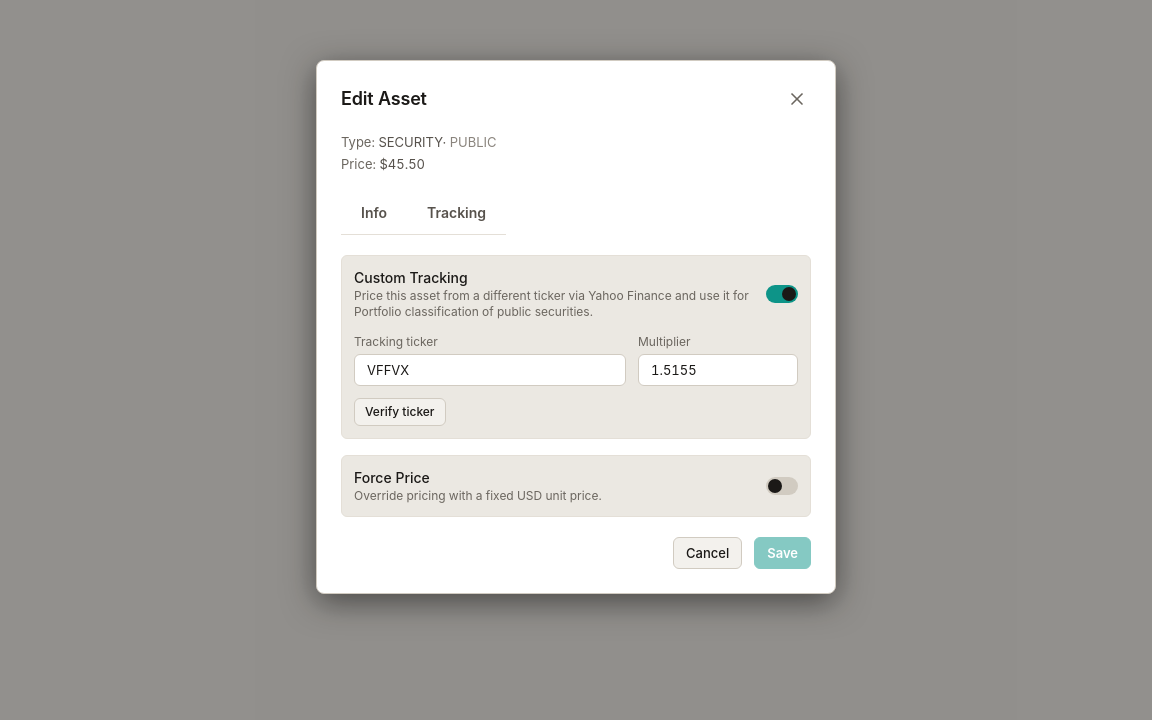
AssetEditModal › shows security-only pricing controls for security assets
Check: the switch named "override pricing" is shown, box 766,477 -> 798,495
Replace the text in the number field named "Tracking multiplier" with "2" at (718, 370), box 638,354 -> 798,386
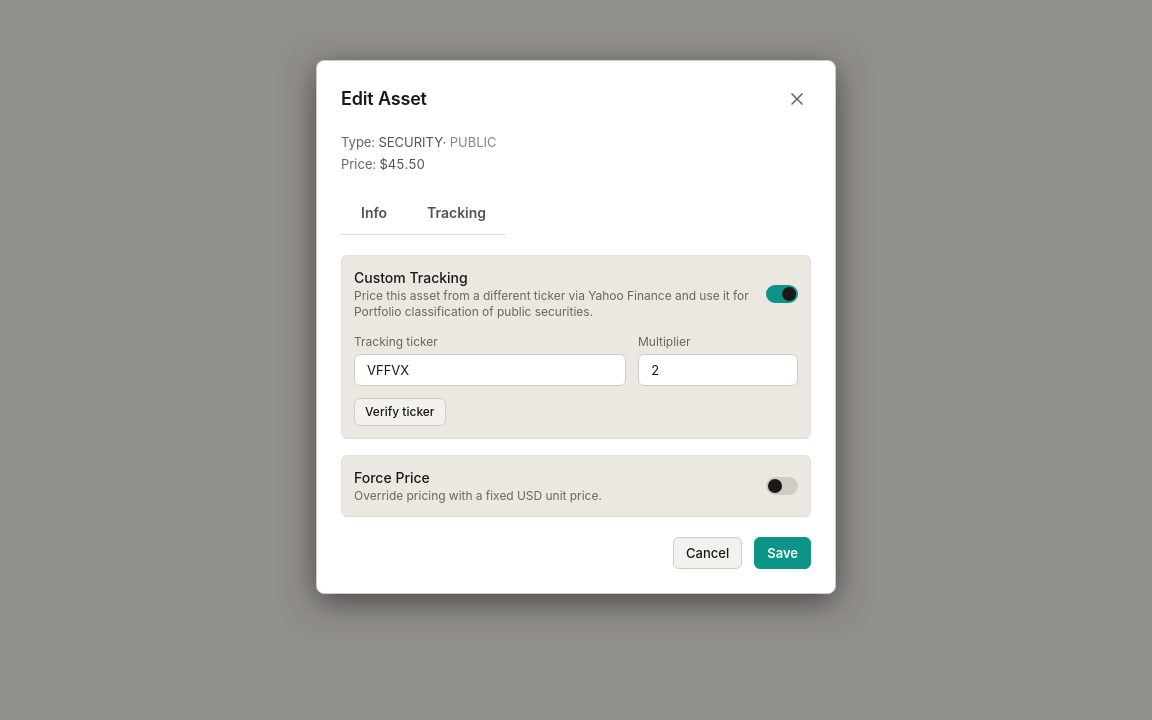
Check: the button "Save" is enabled, box 754,537 -> 811,569
